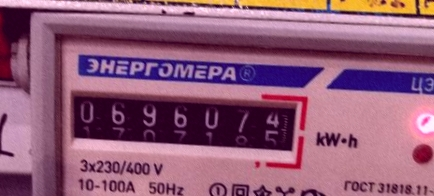0: (75, 96, 94, 122), (200, 102, 218, 129)
4: (263, 105, 278, 127)
5: (261, 127, 277, 147)
6: (169, 100, 187, 128), (106, 97, 125, 123)
7: (231, 105, 249, 132)
9: (137, 99, 156, 127)
screen: (58, 75, 309, 169)
